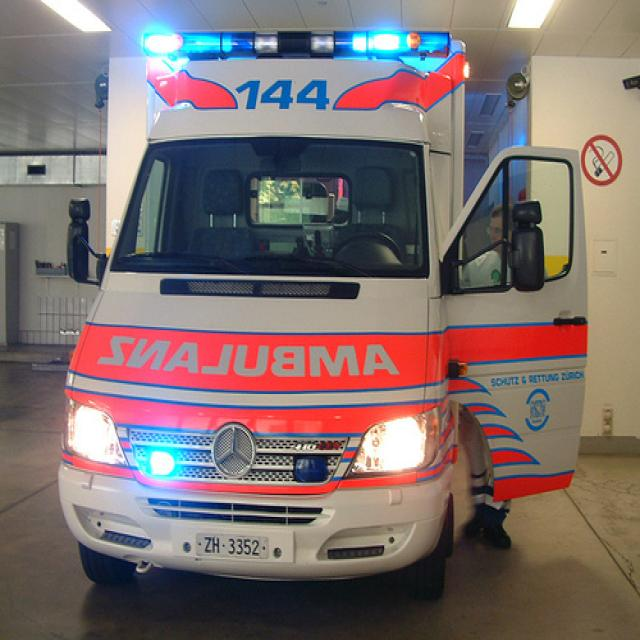emergency-vehicle: (65, 92, 447, 584)
